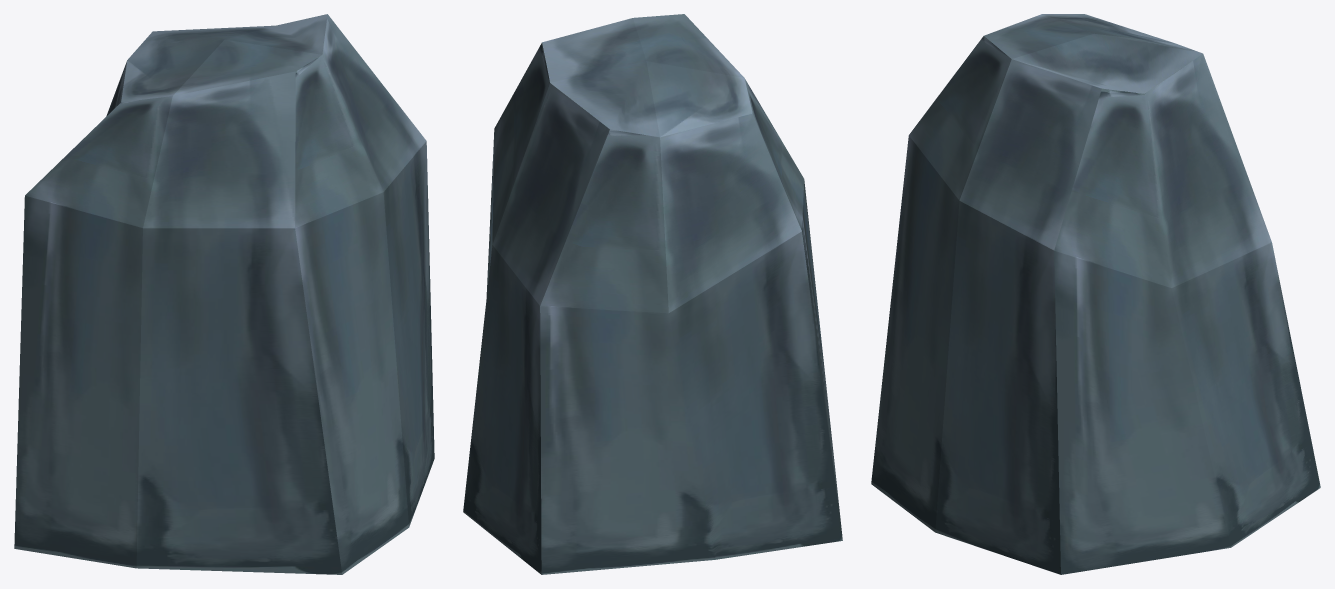
File: 石頭一個.fbx
3 renders of one model, left to right at view 1: azimuth 30°, elevation 25°; view 2: azimuth 150°, elevation 25°; view 3: azimuth 270°, elevation 25°, orthographic. The views are drawn at different scales.
Parts seen in each view (by area): view 1: 石頭.001; view 2: 石頭.001; view 3: 石頭.001.
Boxes of the visible parts, x1,y1,x2,y2 form: 石頭.001: (14,14,434,574); 石頭.001: (463,14,842,574); 石頭.001: (871,14,1320,574).
Bounding box in the file's own units: 241 × 267 × 236.
Materials: 1 (1 with a texture image).
